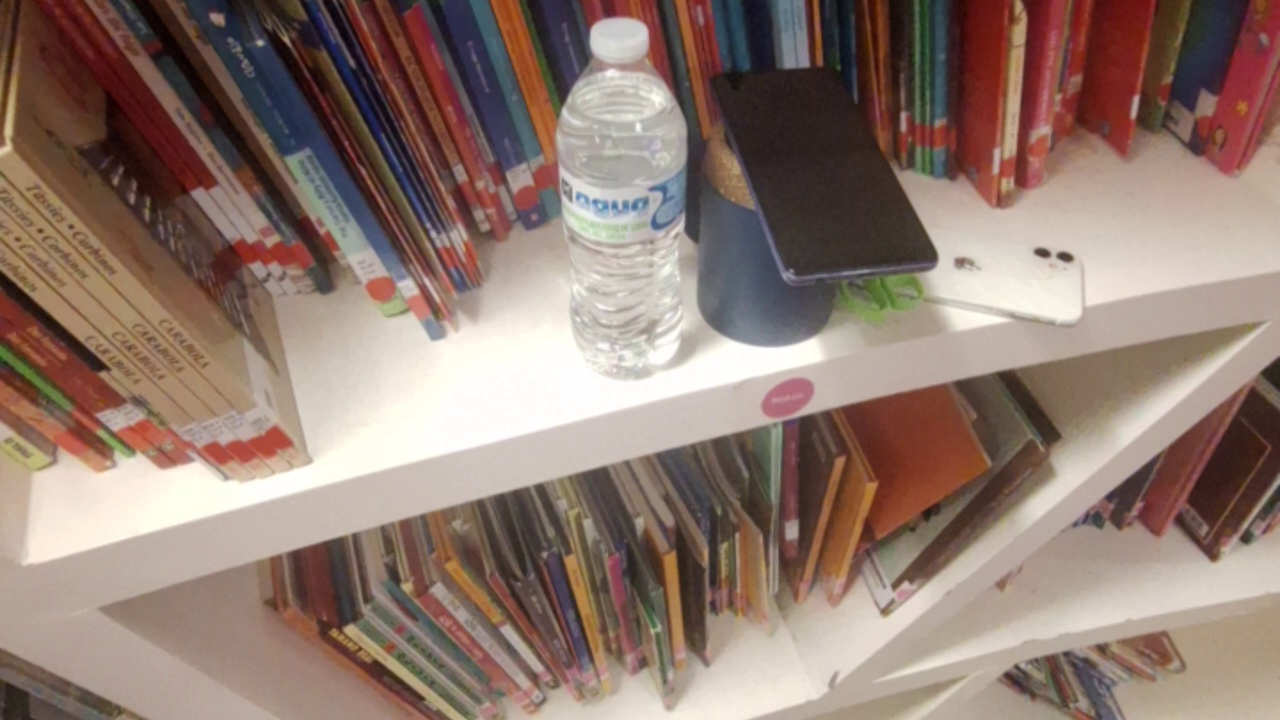botella: (557, 17, 690, 381)
